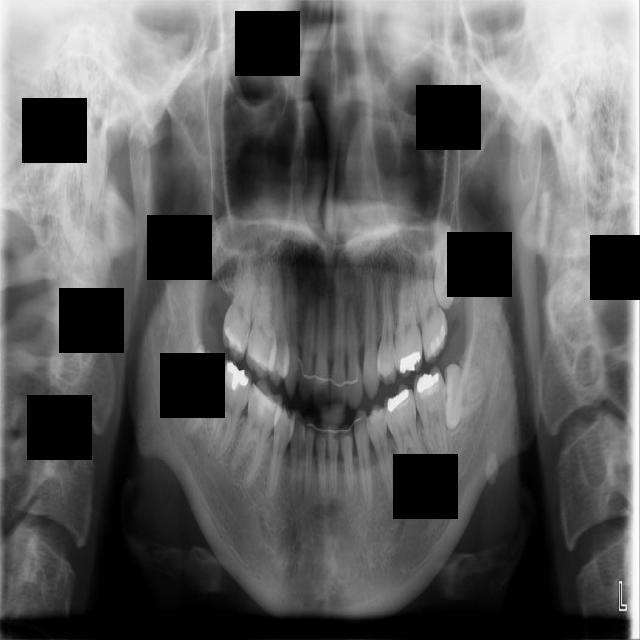52: (403, 364, 456, 421), (211, 356, 259, 417), (217, 305, 256, 364), (419, 306, 450, 364), (384, 381, 416, 435), (393, 325, 424, 377)
73: (598, 567, 602, 577)
BioHorizons Implant: (407, 240, 452, 363)
BioLife Implant: (434, 211, 459, 309)
Biomet 3i Implant: (442, 363, 487, 430)
Blue Sky Bio Implant: (410, 364, 455, 476)
Caries: (215, 241, 271, 364)
Implant: (204, 356, 257, 465)
Keystone Dental Implant: (176, 340, 229, 439)
